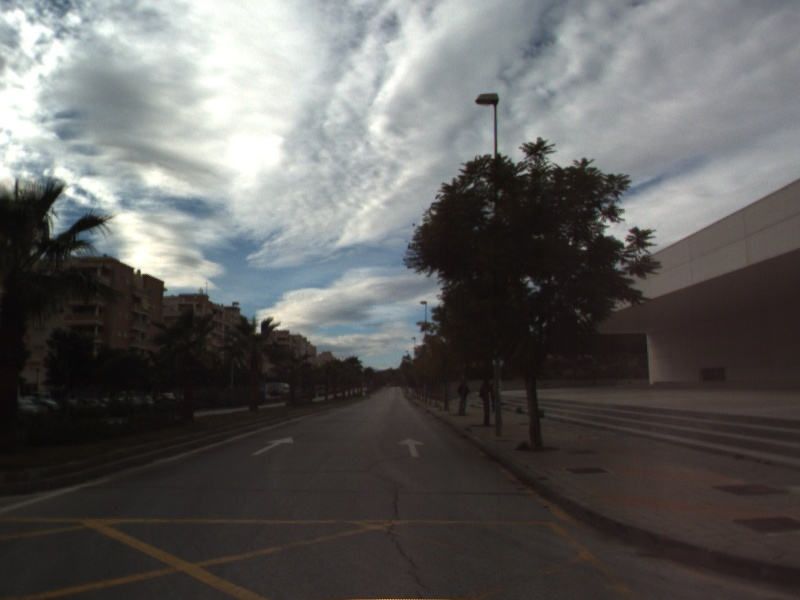STRAIGHT: (250, 434, 295, 457), (396, 436, 427, 460)
